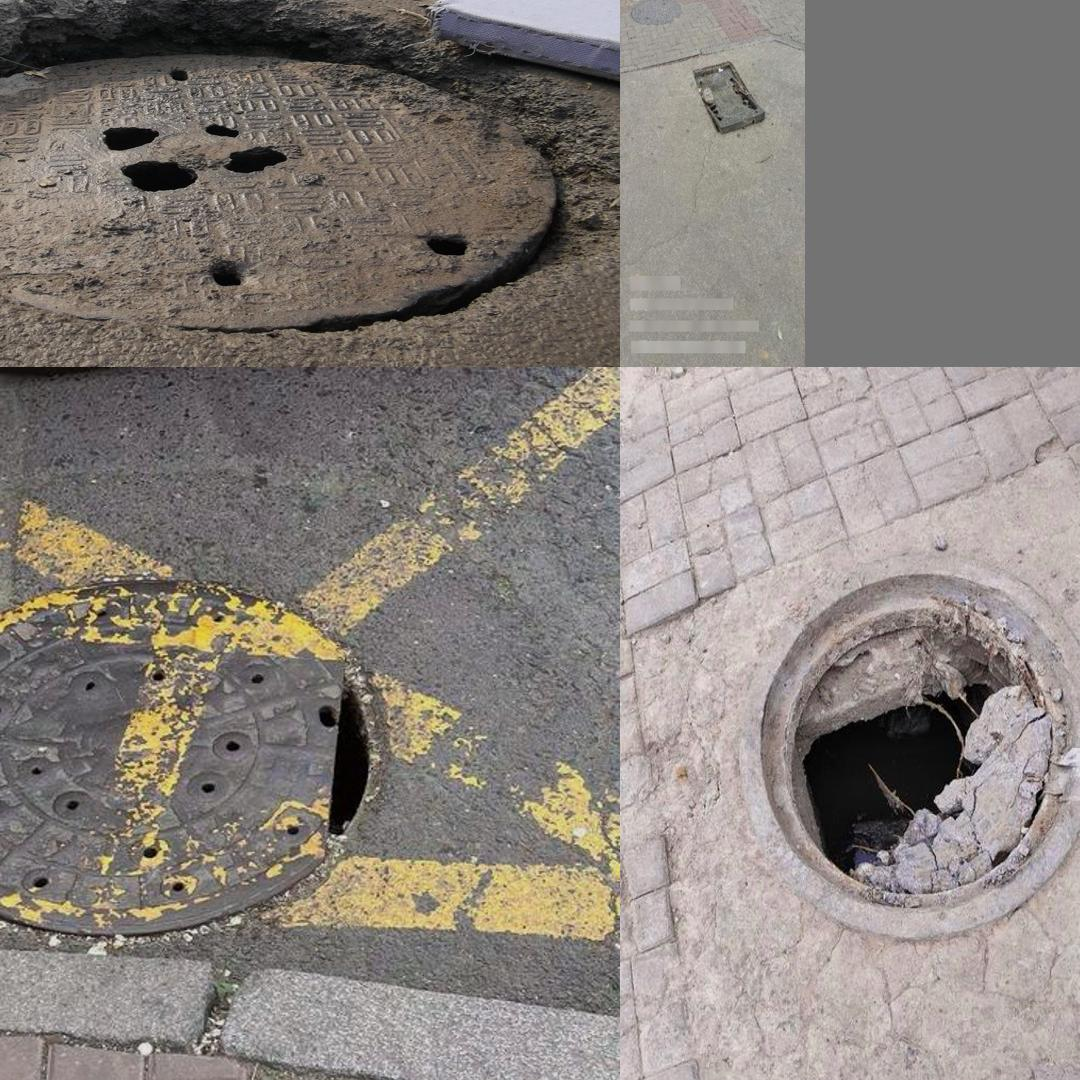broke: (687, 530, 1080, 956), (0, 554, 445, 930), (0, 53, 559, 328), (692, 61, 765, 133)
good: (628, 0, 682, 25)
